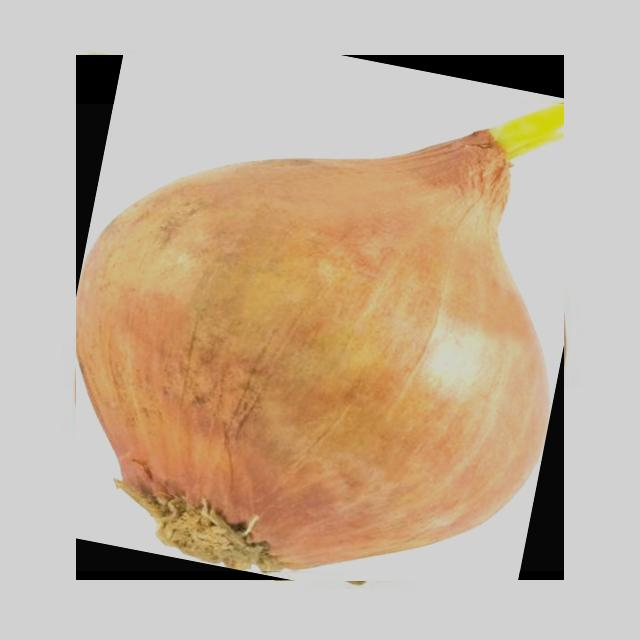sprouting: (76, 105, 564, 571)
